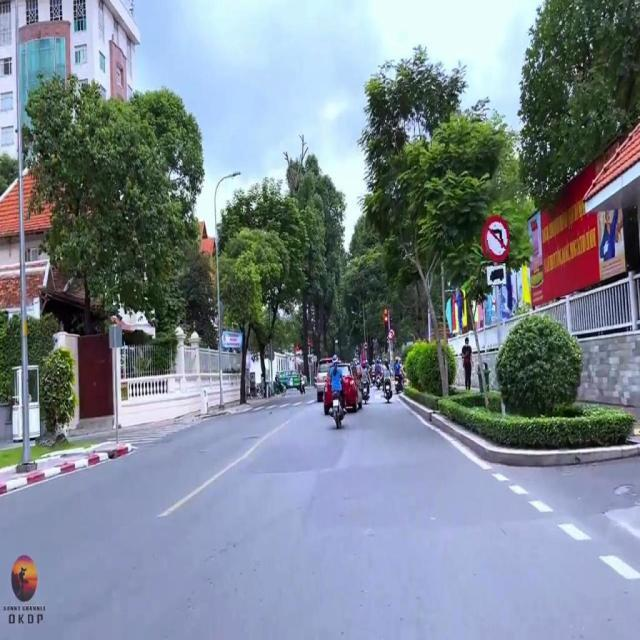106-cam-oto-tai: (364, 342, 368, 349)
123a-cam-re-trai: (480, 214, 510, 262)
